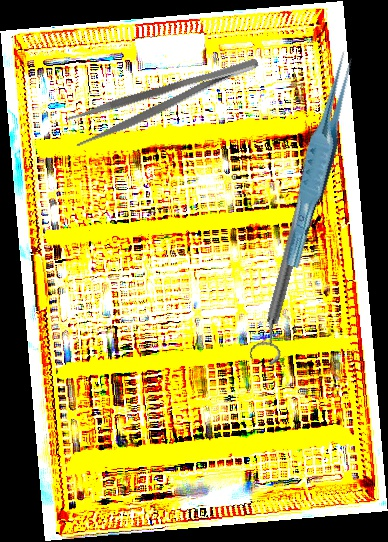Dressing Forceps: (65, 53, 266, 149)
Fixation Ring: (245, 153, 333, 368)
Tissue Forceps: (269, 49, 372, 269)
